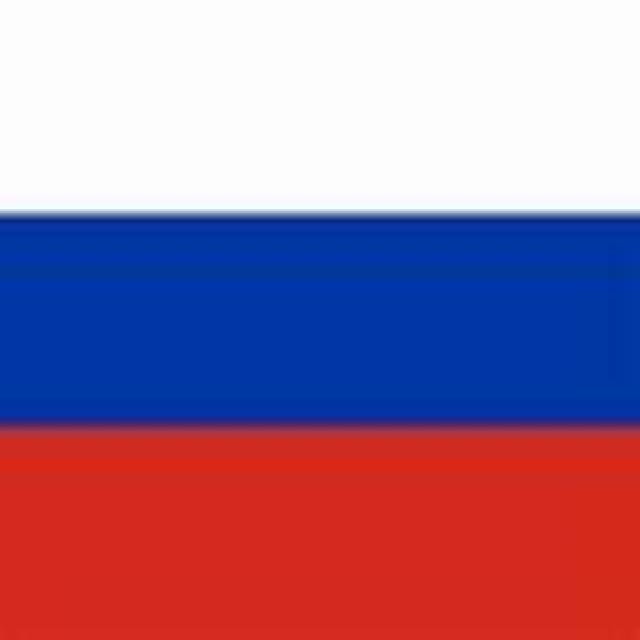russia: (12, 8, 624, 614)
